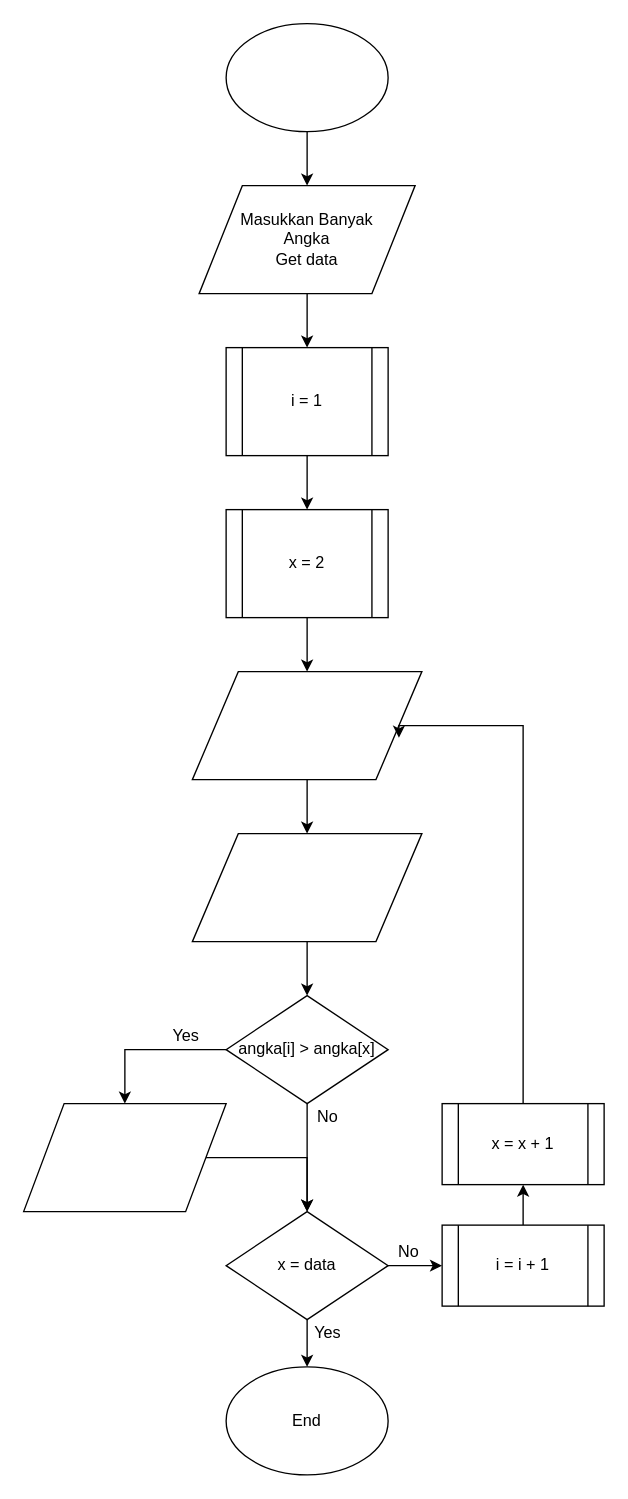
The diagram is 628 pixels wide and 1499 high, and some of its shapes have lost their labels. The box of each missing label's shape, as (x1, y1, x2, y2) in pixels:
Masukkan Angka Ke +i Get angka[i]: (191, 670, 422, 780)
Masukkan Angka Ke +x Get angka[x]: (191, 832, 422, 942)
Print angka[i]: (22, 1102, 226, 1212)
Start: (225, 22, 388, 132)
